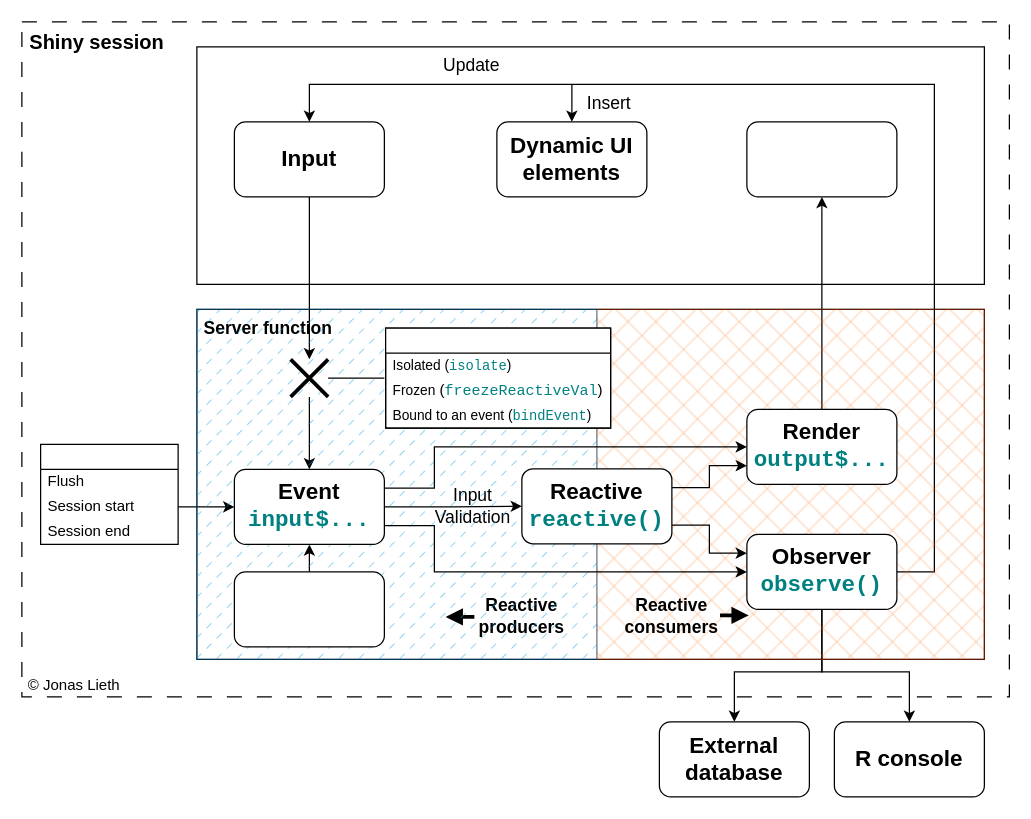
The diagram is 1031 pixels wide and 819 high, and some of its shapes have lost their labels. The box of each missing label's shape, as (x1, y1, x2, y2) in pixels:
Event suppressed if: (384, 327, 611, 428)
Output: (746, 121, 897, 197)
Reactive values: (233, 571, 384, 647)
Session events: (39, 443, 178, 544)
User Interface (UI): (196, 46, 984, 284)
